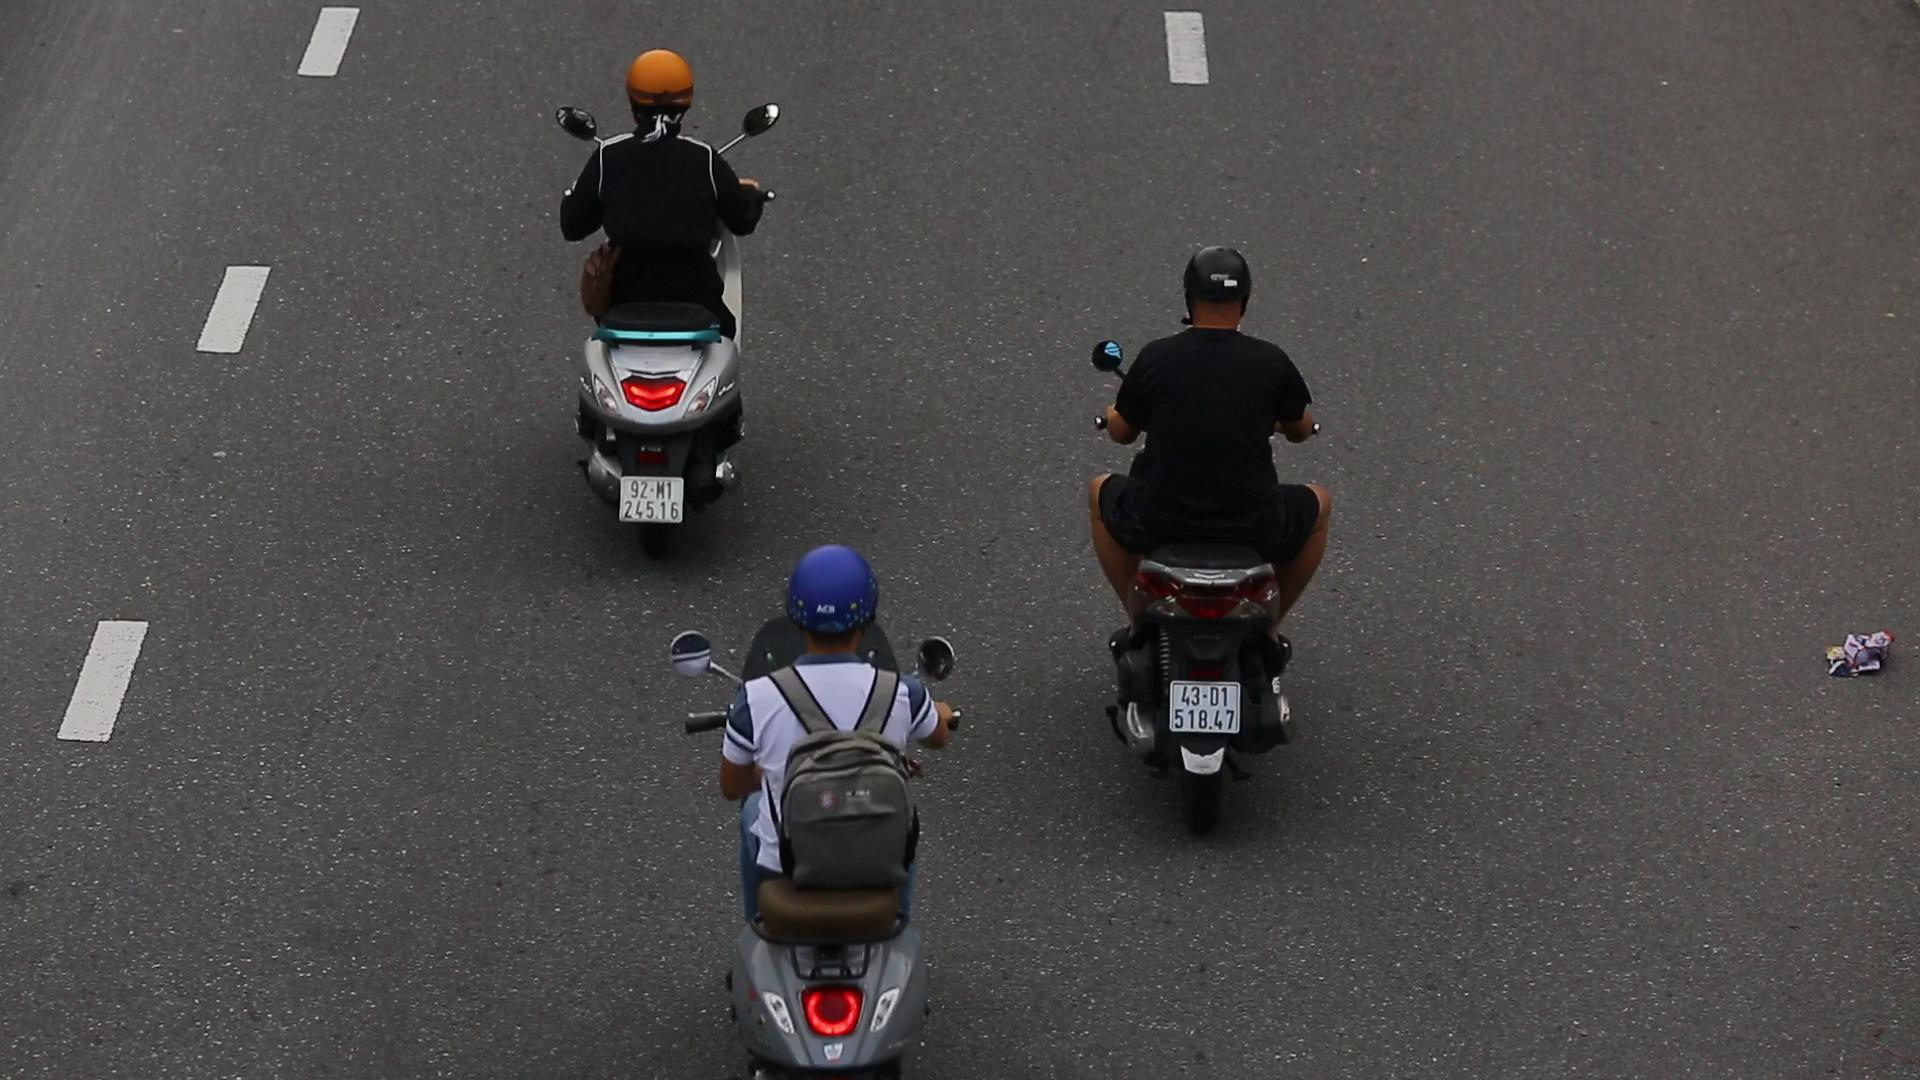motobike: (1046, 215, 1345, 829), (543, 18, 787, 556)
